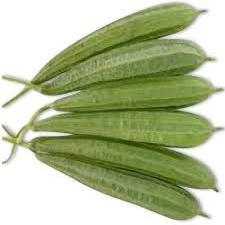sponge gourd: (0, 0, 224, 221), (1, 0, 209, 107), (30, 150, 209, 220), (25, 132, 219, 192), (28, 108, 223, 148), (38, 73, 224, 112)
